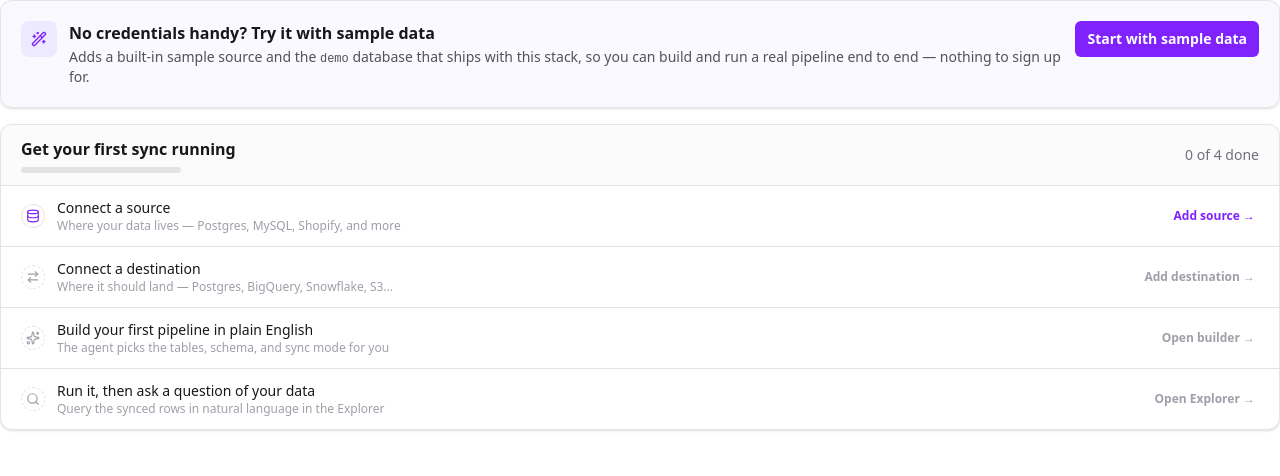
Test: FirstRunOnboarding — Start with sample data › stays put and says why when seeding fails
The width and height of the screenshot is (1280, 476).
Click the button "Start with sample data": point(1167, 39) [1076,21,1259,57]
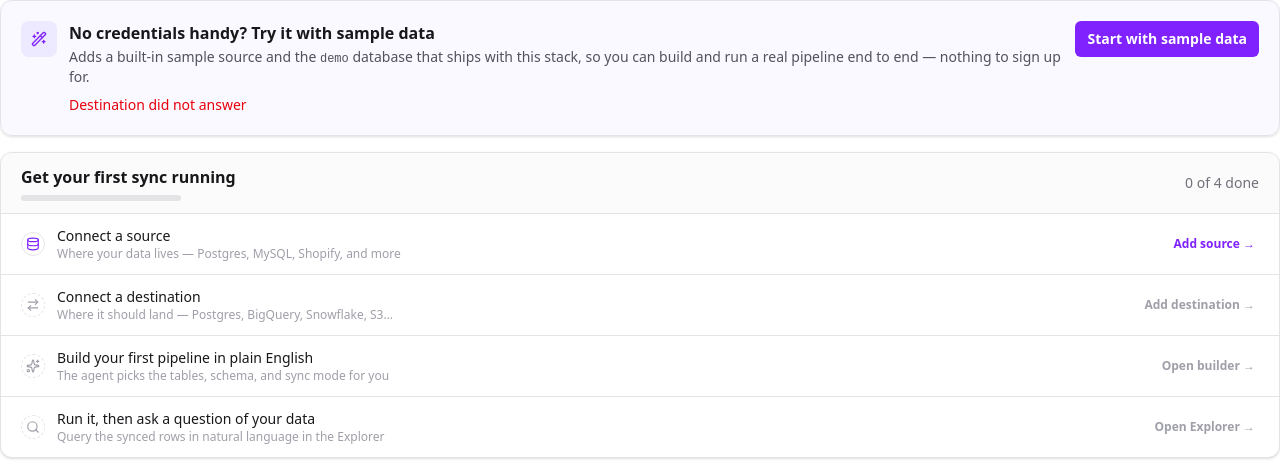
Expected: the message reads "Destination did not answer", [69,95,247,114]
